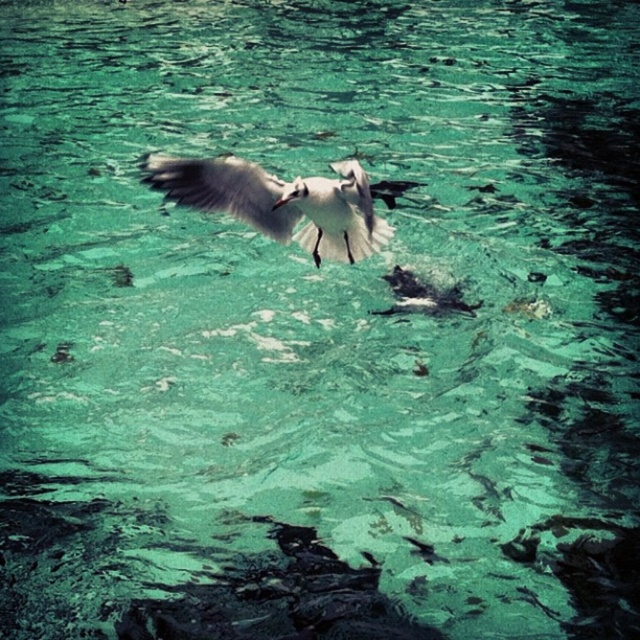Goose: (144, 142, 412, 279)
